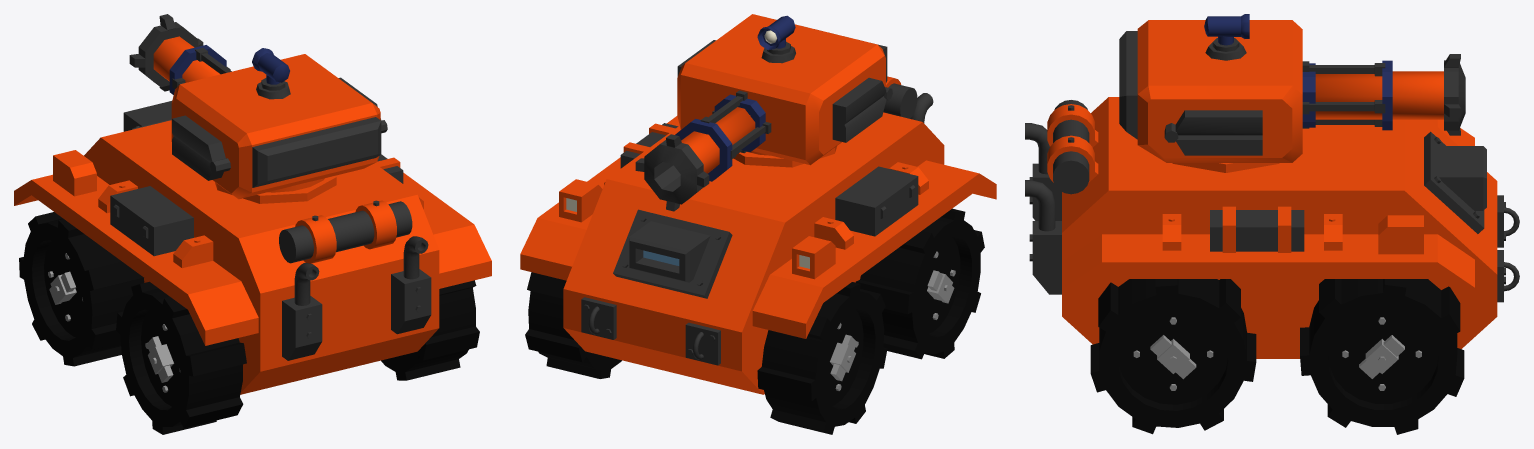
File: Tank_C.fbx
3 renders of one model, left to right at view 1: azimuth 30°, elevation 25°; view 2: azimuth 150°, elevation 25°; view 3: azimuth 270°, elevation 25°, orthographic. The views are drawn at different scales.
Parts seen in each view (by area): view 1: Tank_C_Body, Tank_C_Turret, Tank_C_Wheel_R_L, Tank_C_Wheel_F_L, Tank_C_Wheel_R_R; view 2: Tank_C_Body, Tank_C_Turret, Tank_C_Wheel_F_L, Tank_C_Wheel_R_L, Tank_C_Wheel_F_R; view 3: Tank_C_Body, Tank_C_Turret, Tank_C_Wheel_R_R, Tank_C_Wheel_F_R.
Boxes of the visible parts, x1,y1,x2,y2 form: Tank_C_Body: (14,101,491,394); Tank_C_Turret: (129,14,387,203); Tank_C_Wheel_R_L: (116,281,246,434); Tank_C_Wheel_F_L: (19,212,144,366); Tank_C_Wheel_R_R: (381,280,479,380); Tank_C_Body: (520,76,996,394); Tank_C_Turret: (635,14,892,211); Tank_C_Wheel_F_L: (757,282,887,434); Tank_C_Wheel_R_L: (855,208,984,359); Tank_C_Wheel_F_R: (525,272,621,378); Tank_C_Body: (1025,97,1519,358); Tank_C_Turret: (1119,14,1465,172); Tank_C_Wheel_R_R: (1090,279,1256,434); Tank_C_Wheel_F_R: (1300,279,1464,434).
Size of the model in its own units: 74.12 by 78.71 by 102.
